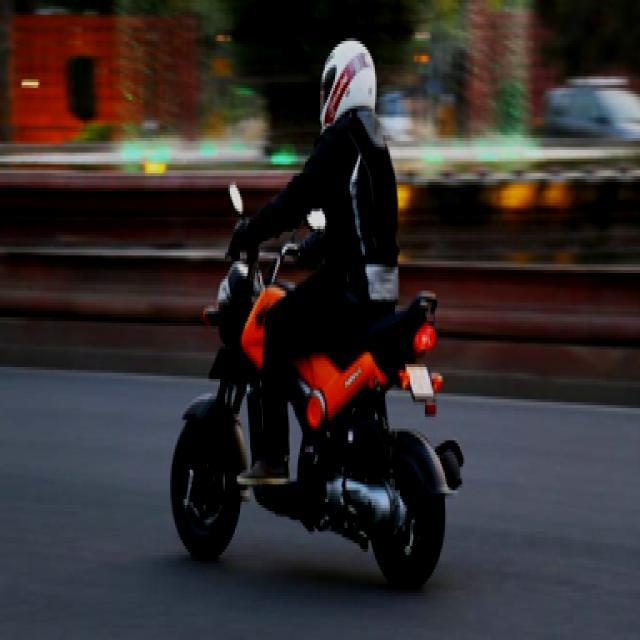Helmet: (318, 35, 378, 141)
